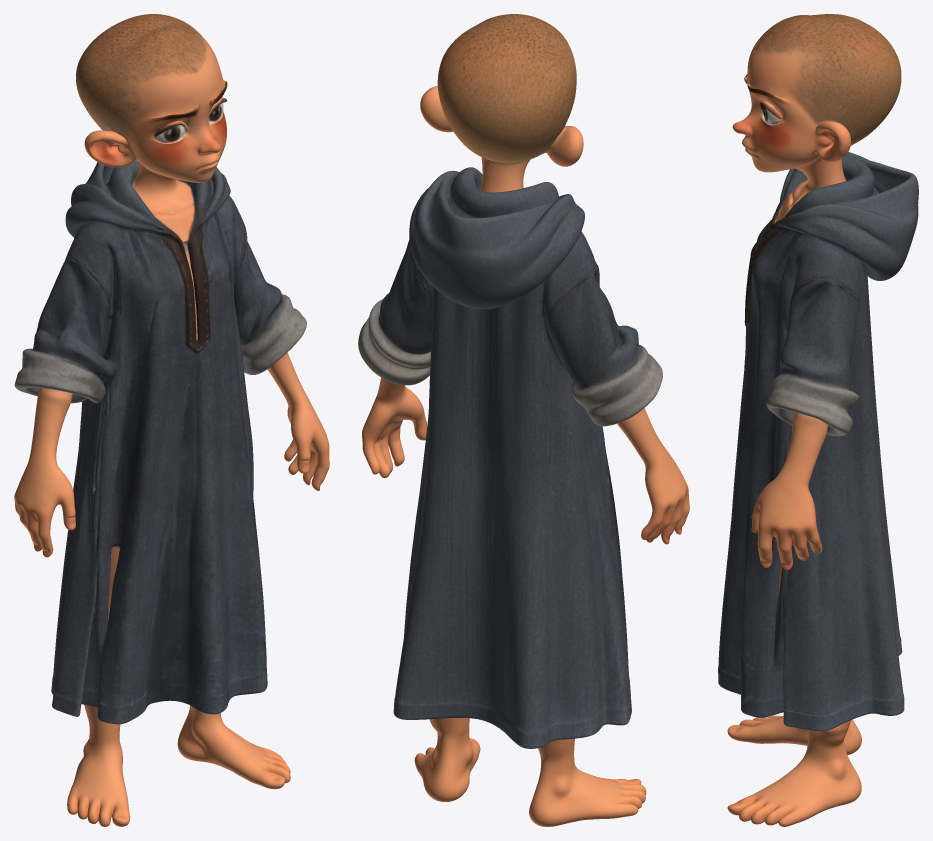
The model's file is kid2__base_basic_pbr.glb.
The picture shows the model from 3 angles, left to right: view 1: azimuth 30°, elevation 25°; view 2: azimuth 150°, elevation 25°; view 3: azimuth 270°, elevation 25°; orthographic projection. The views are drawn at different scales.
Parts seen in each view (by area): view 1: model; view 2: model; view 3: model.
Boxes of the visible parts, bbox=[...] form: model: bbox=[14, 14, 329, 826]; model: bbox=[358, 14, 689, 826]; model: bbox=[718, 14, 918, 826].
Size of the model in its own units: 0.7947 by 1.9 by 0.4572.
Materials: 1 (1 with a texture image).
